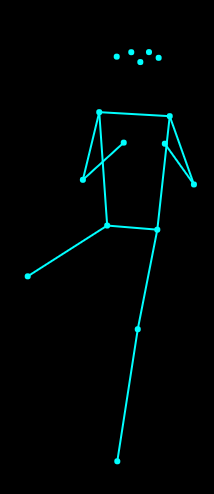tree: (20, 32, 201, 469)
